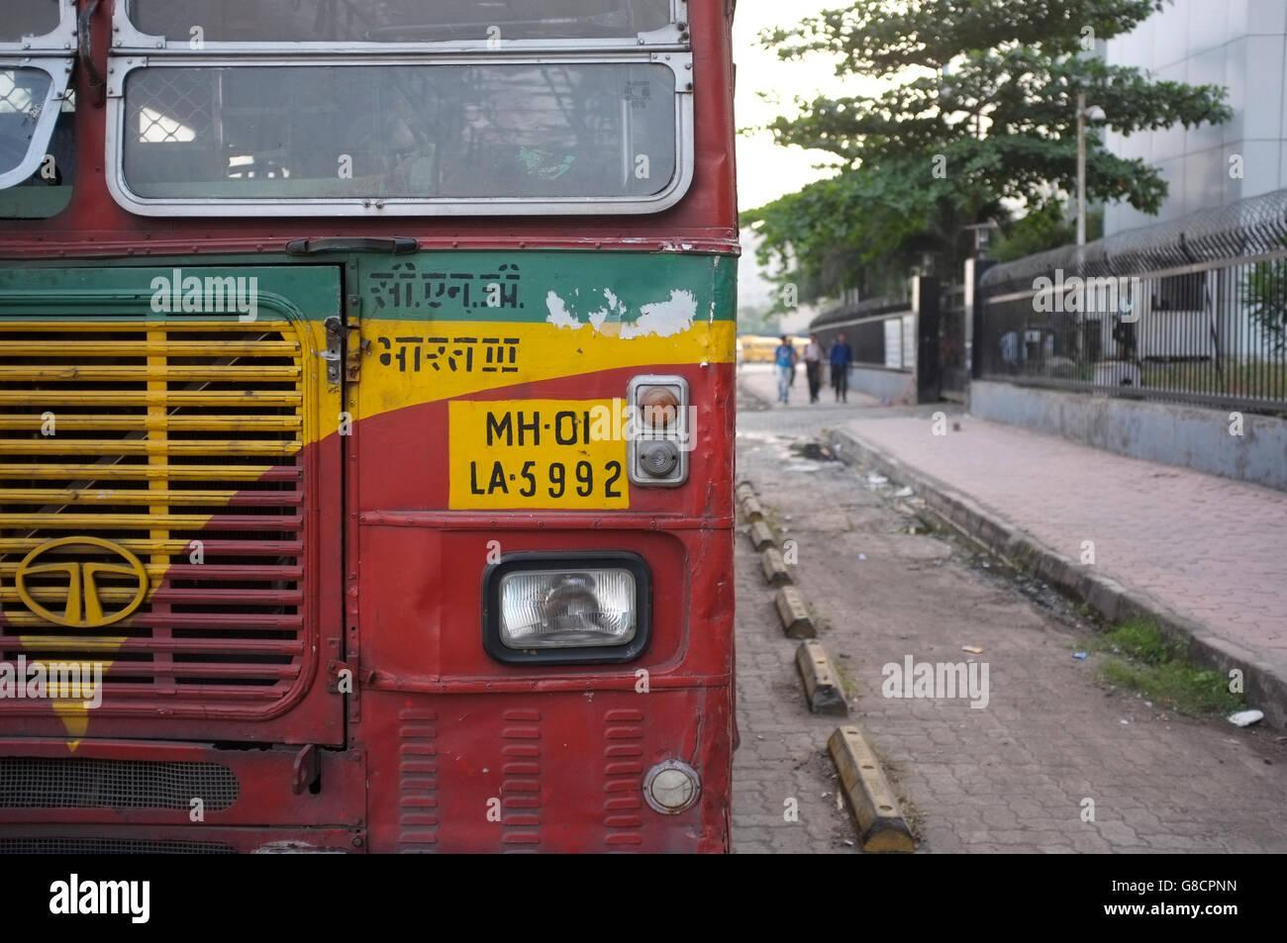Bus: (0, 0, 742, 861)
